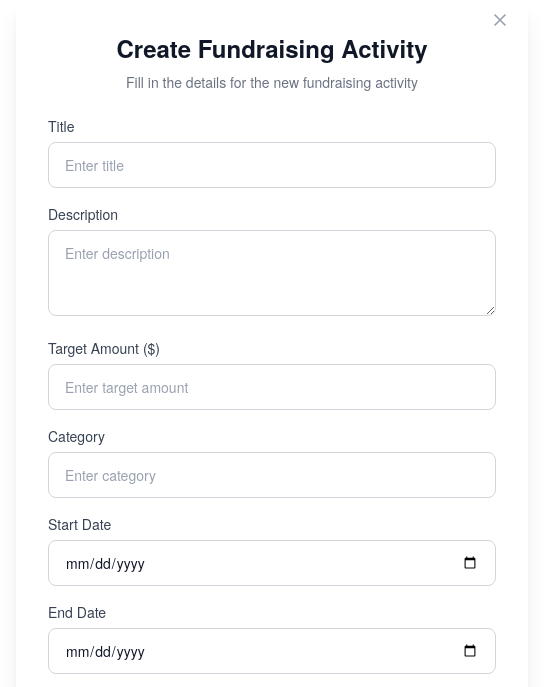
Scenario: CreateFundraisingActivityPage › blocks submission when target amount is empty
Type "Help the Community" into the field labelled "Title" at (272, 165), box [48,142,496,188]
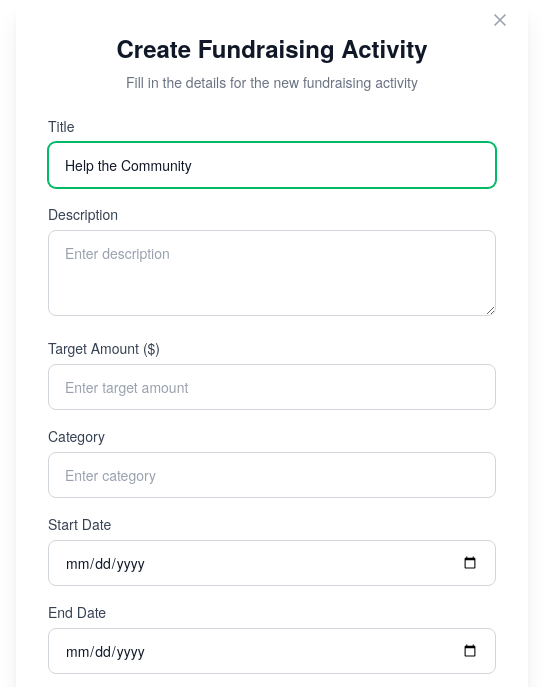
Type "A great cause." into the text box labelled "Description" at (272, 273), box [48,230,496,316]
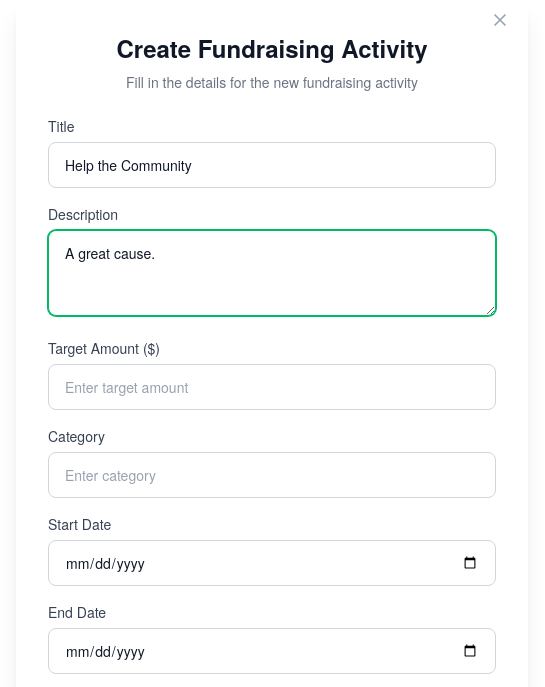
Type "Community" into the field labelled "Category" at (272, 475), box [48,452,496,498]
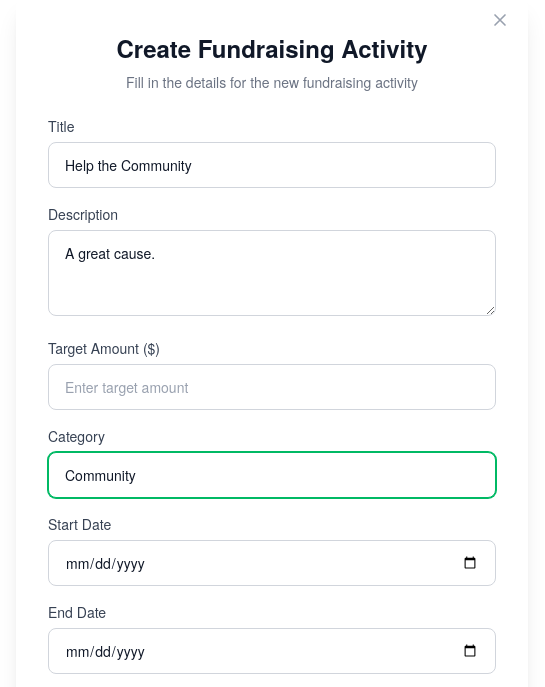
Type "2026-05-01" into the date field labelled "Start Date" at (272, 563), box [48,540,496,586]
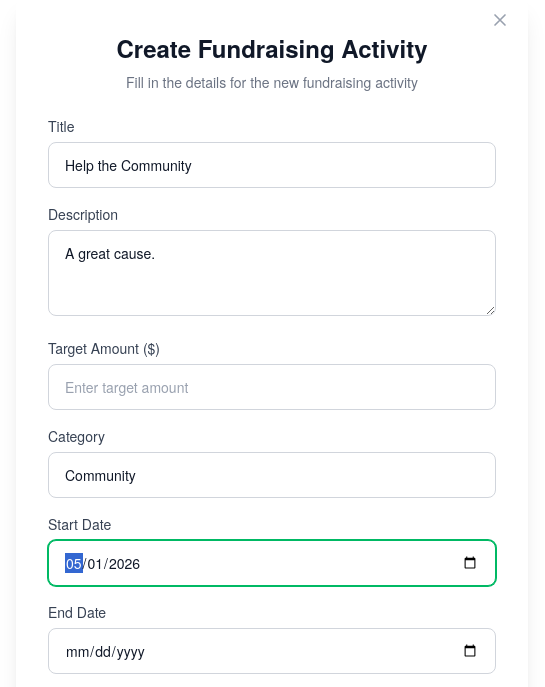
Type "2026-06-01" into the date field labelled "End Date" at (272, 651), box [48,628,496,674]
(page scrolled)
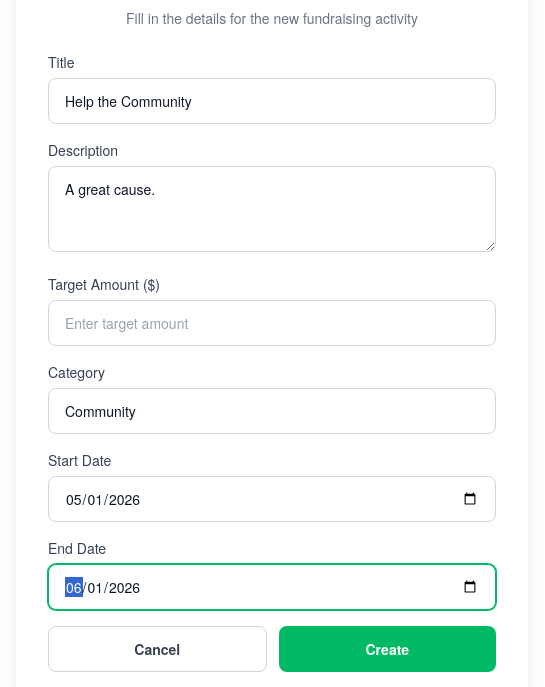
Click the button "Create" at (387, 649), box [278,626,496,672]
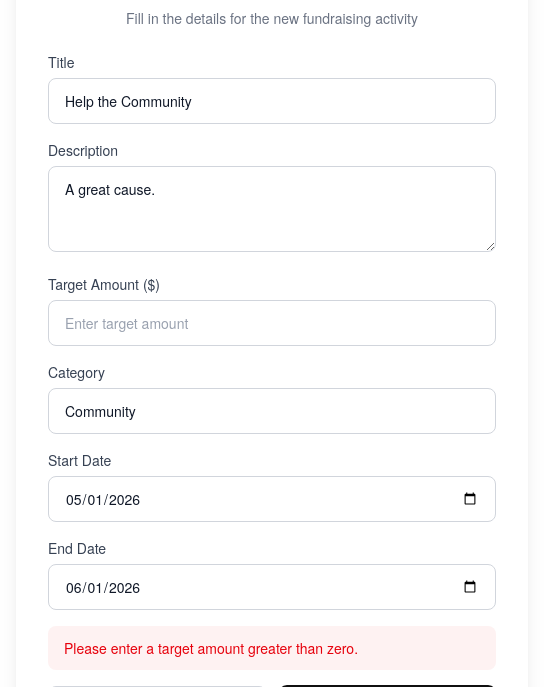
Now the text "Please enter a target amount greater than zero." is shown, box [64,638,358,658]
